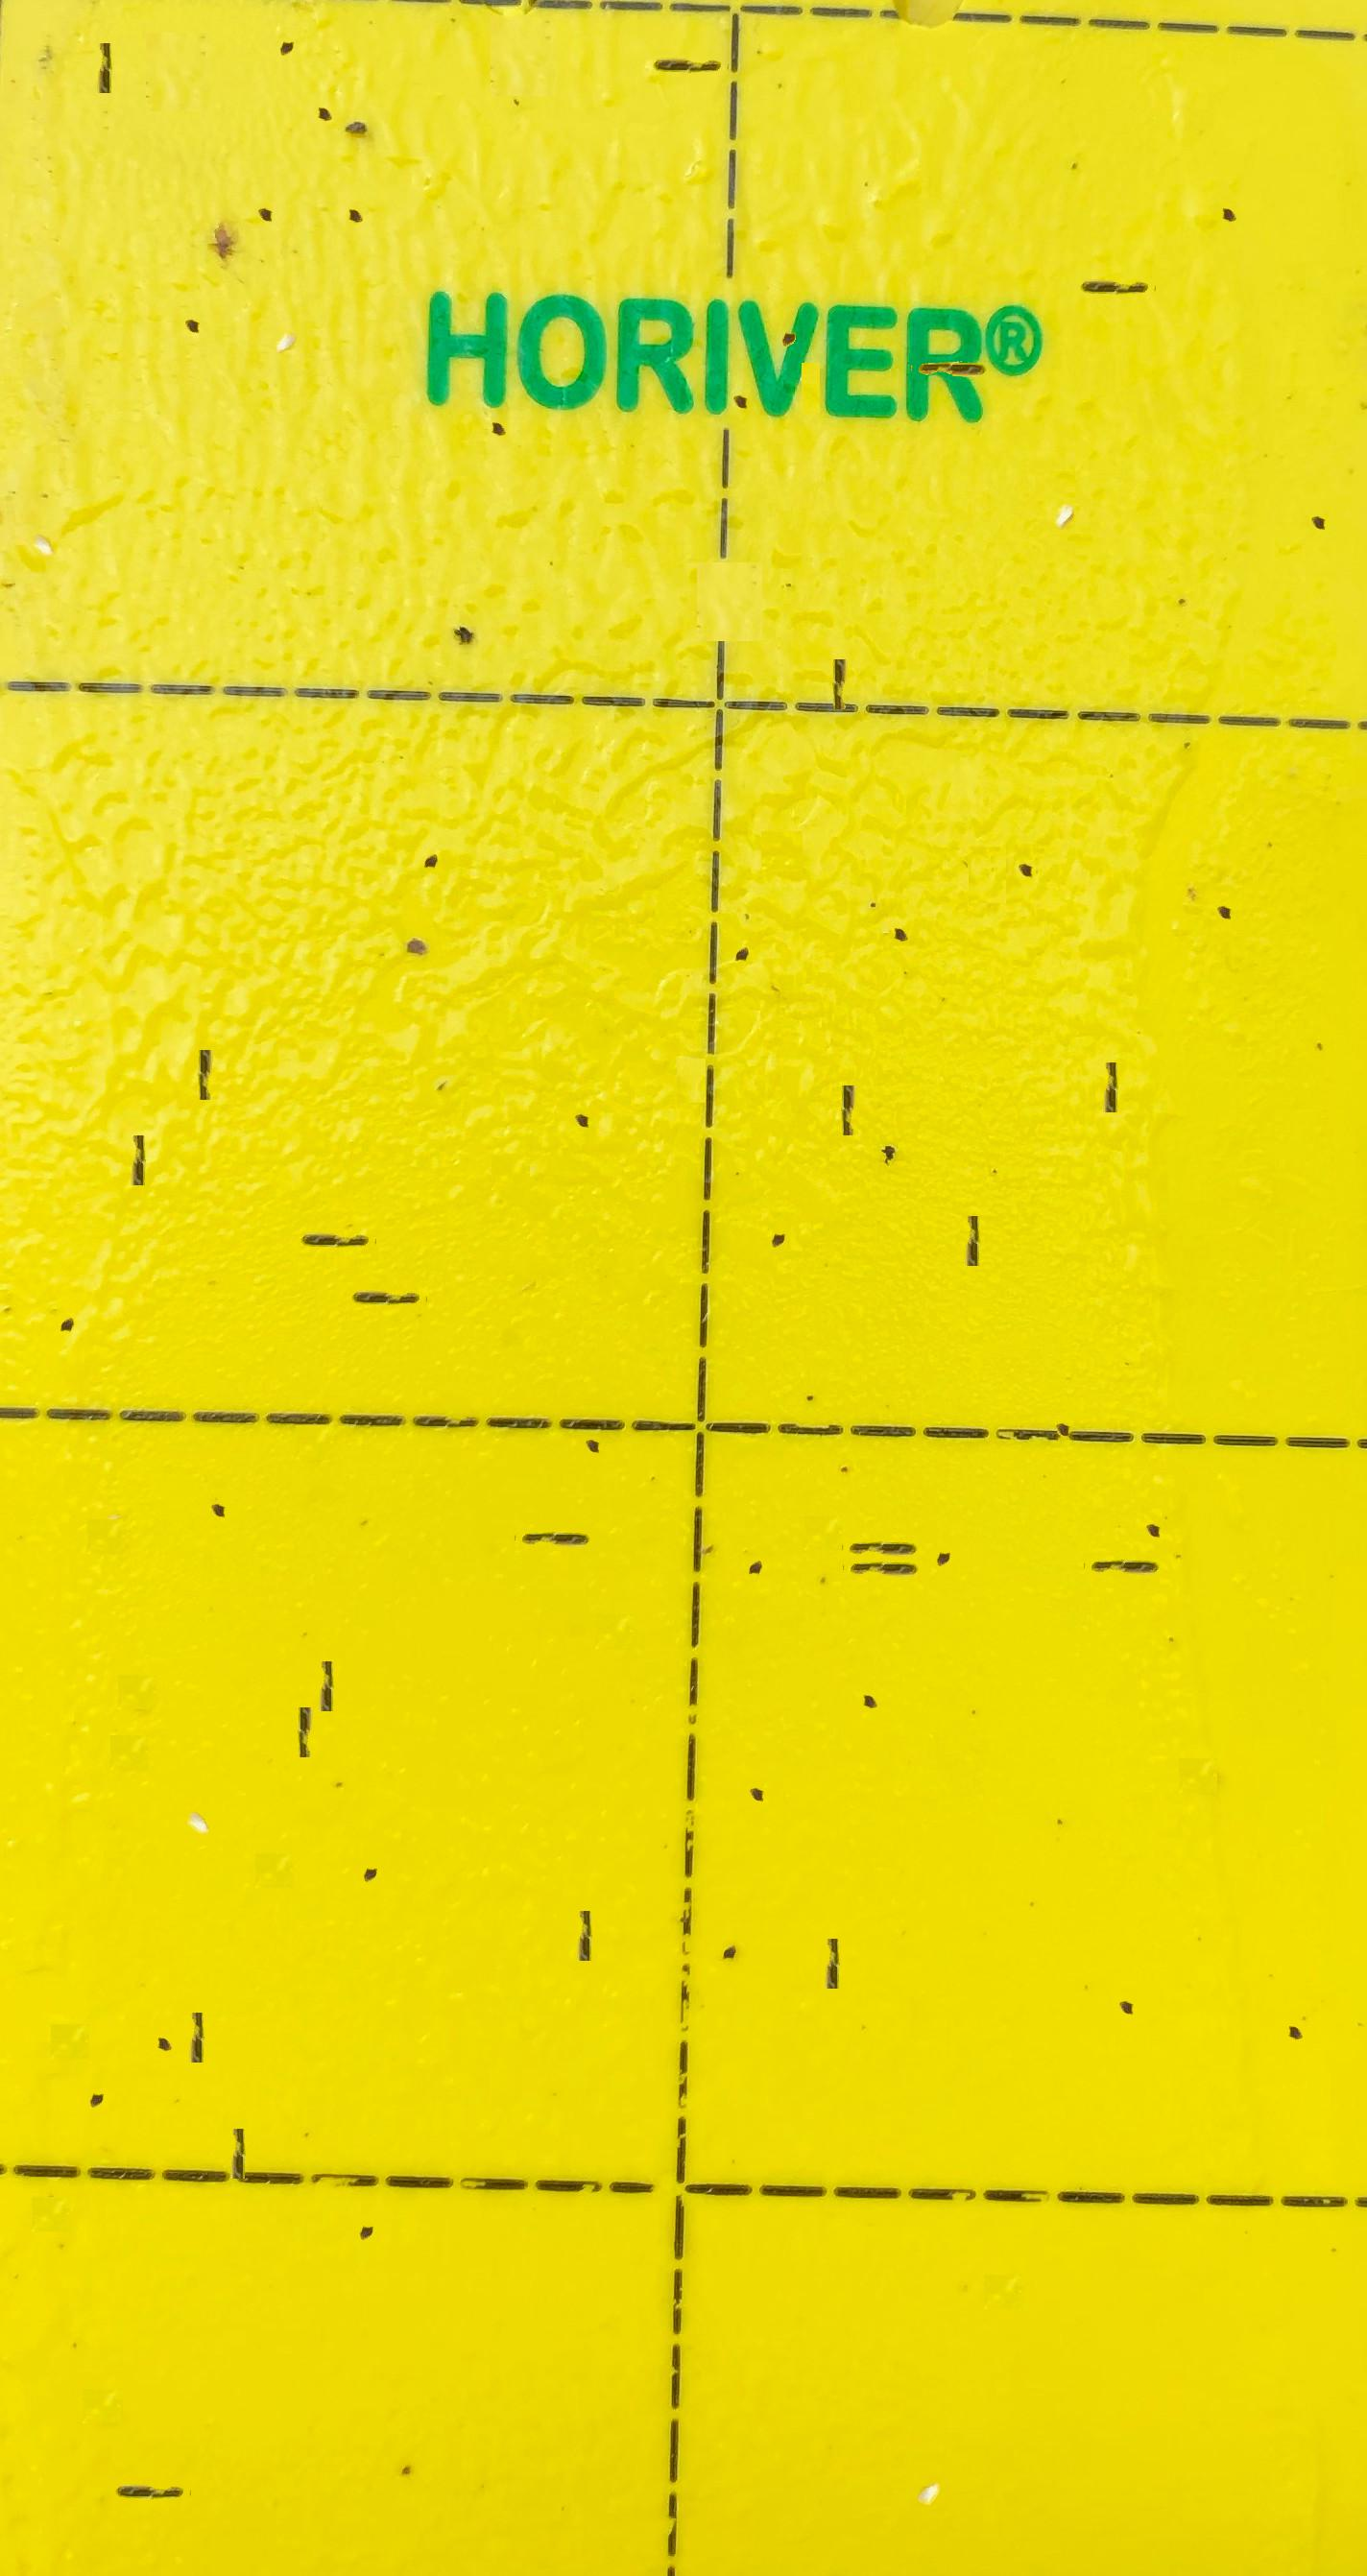white_fly: (1041, 445, 1084, 491), (907, 2429, 949, 2474), (264, 276, 307, 320), (20, 480, 63, 523), (177, 1757, 218, 1801)
